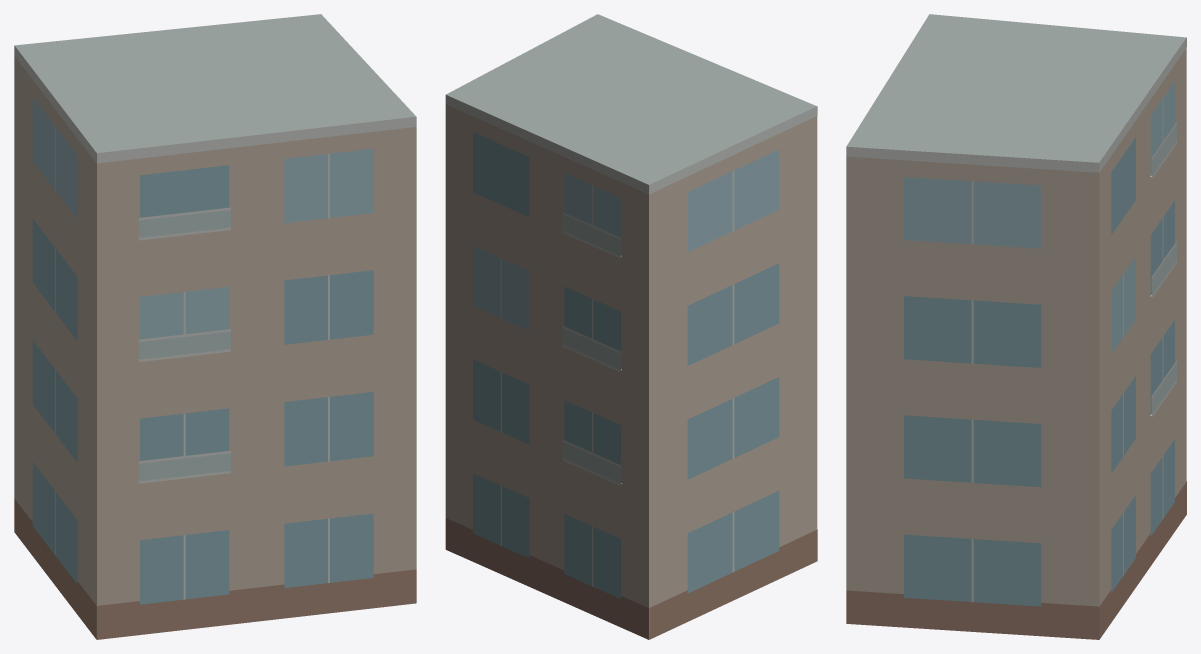
The model's file is survey-upis-32756282.glb.
3 renders of one model, left to right at view 1: azimuth 30°, elevation 25°; view 2: azimuth 150°, elevation 25°; view 3: azimuth 270°, elevation 25°, orthographic. The views are drawn at different scales.
Visible parts, largest first — view 1: survey-upis-32756282.tmp; view 2: survey-upis-32756282.tmp; view 3: survey-upis-32756282.tmp.
Boxes of the visible parts, bbox=[...] form: survey-upis-32756282.tmp: bbox=[14, 14, 416, 639]; survey-upis-32756282.tmp: bbox=[445, 14, 817, 639]; survey-upis-32756282.tmp: bbox=[846, 14, 1186, 639].
Size of the model in its own units: 7.84 by 11.7 by 7.58.
